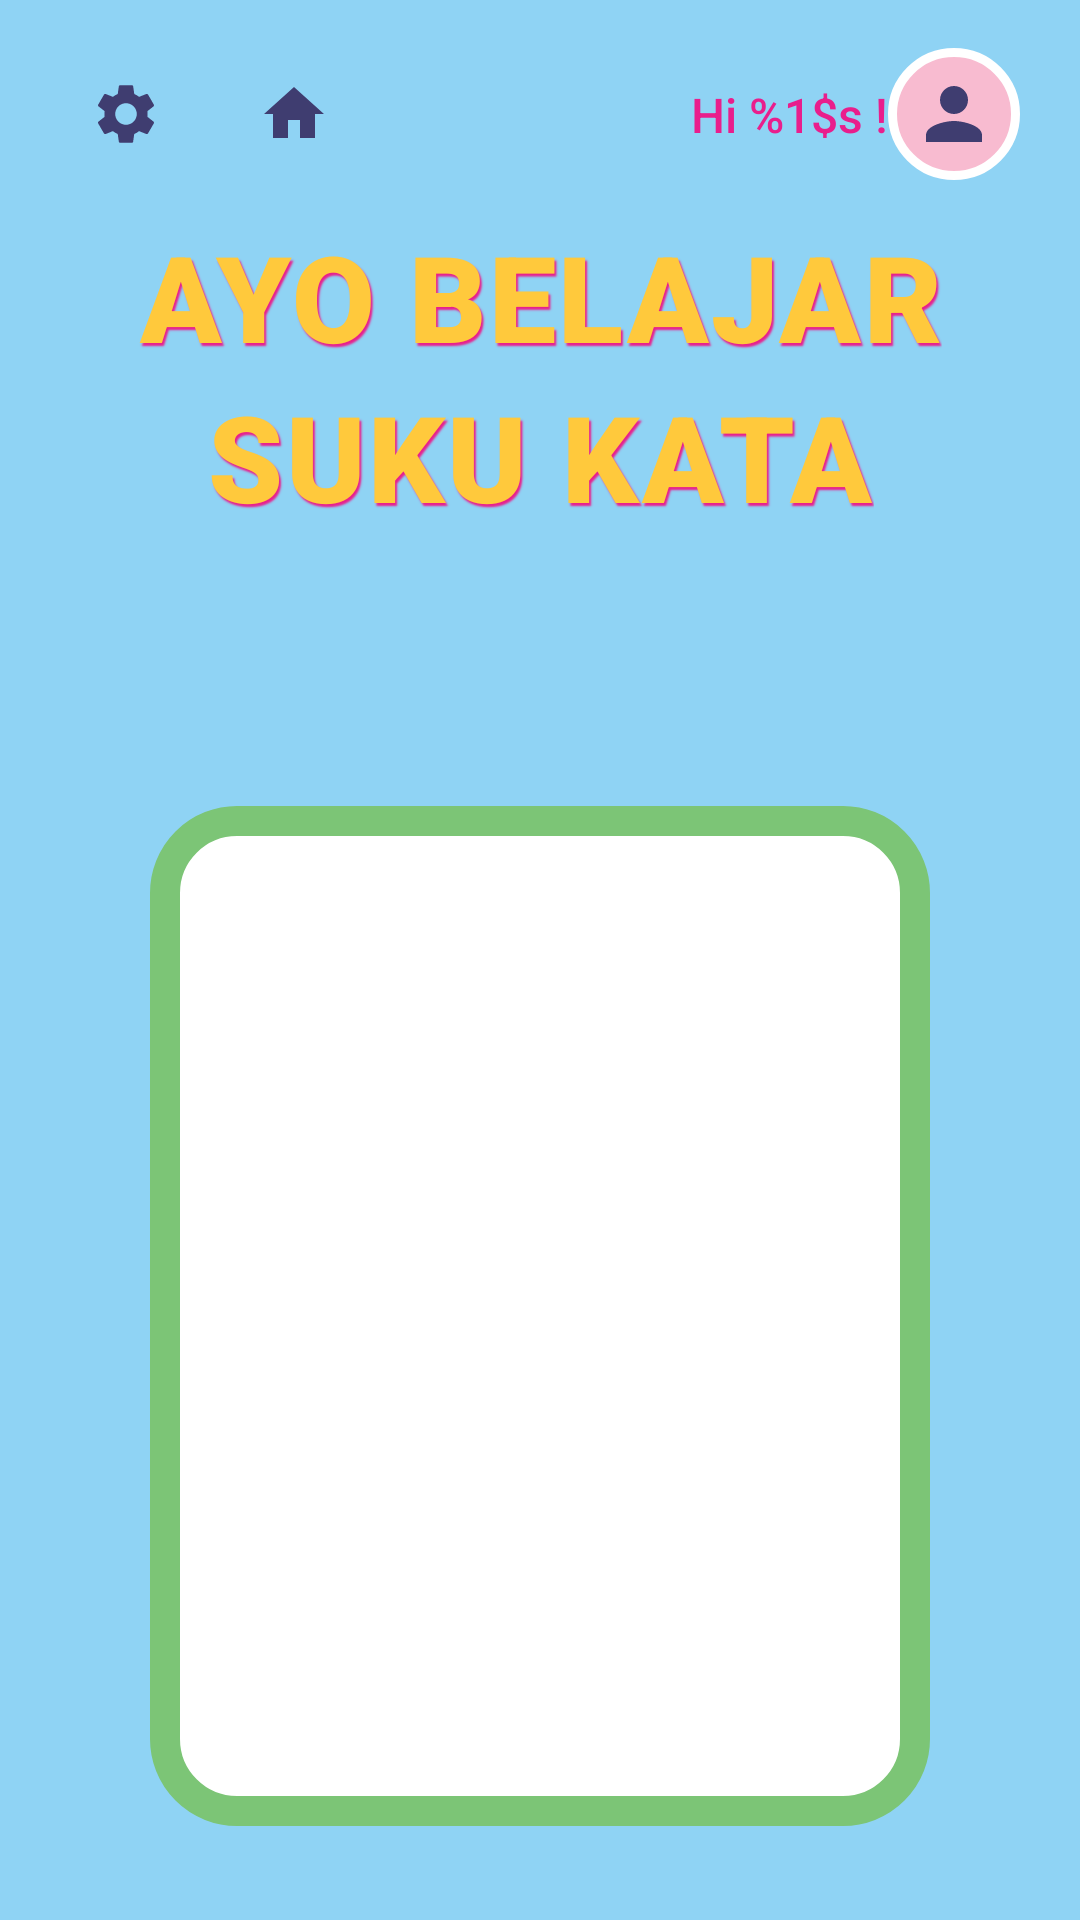

Screen size 1080x1920. Icon name, then its box in pixels as (x1, y1, x2, y2):
Pengaturan: (98, 85, 154, 143)
person: (888, 48, 1020, 180)
